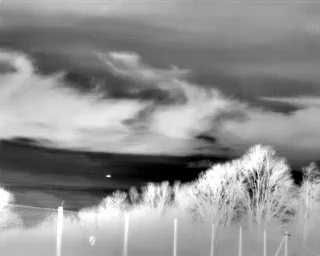HELICOPTER: (103, 171, 114, 181)
